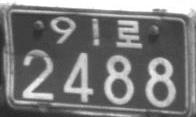1: (84, 18, 108, 46)
2: (22, 48, 54, 100)
4: (63, 52, 94, 103)
8: (144, 56, 177, 108), (102, 53, 134, 106)
9: (50, 15, 77, 44)
로: (115, 19, 142, 48)
